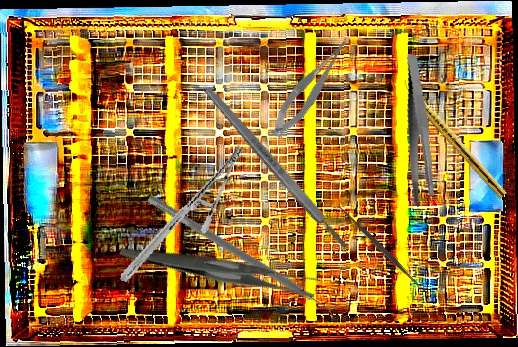Dressing Forceps: (118, 188, 323, 347), (378, 53, 460, 210)
Handpiece: (398, 77, 510, 200)
Micro Scissor: (260, 33, 363, 143)
Needle Holder: (119, 126, 245, 301)
Scalpel Handle: (202, 84, 351, 252)
Spatula Surgical: (142, 194, 342, 324), (331, 199, 429, 296)
